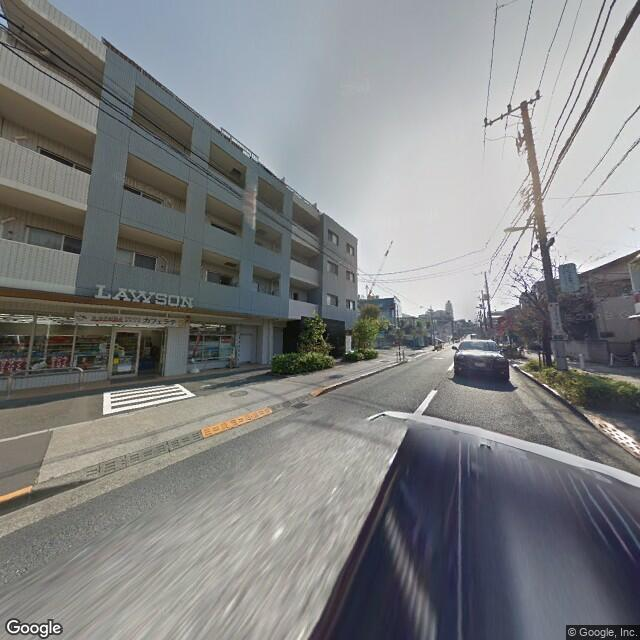lawson: (90, 283, 197, 311)
